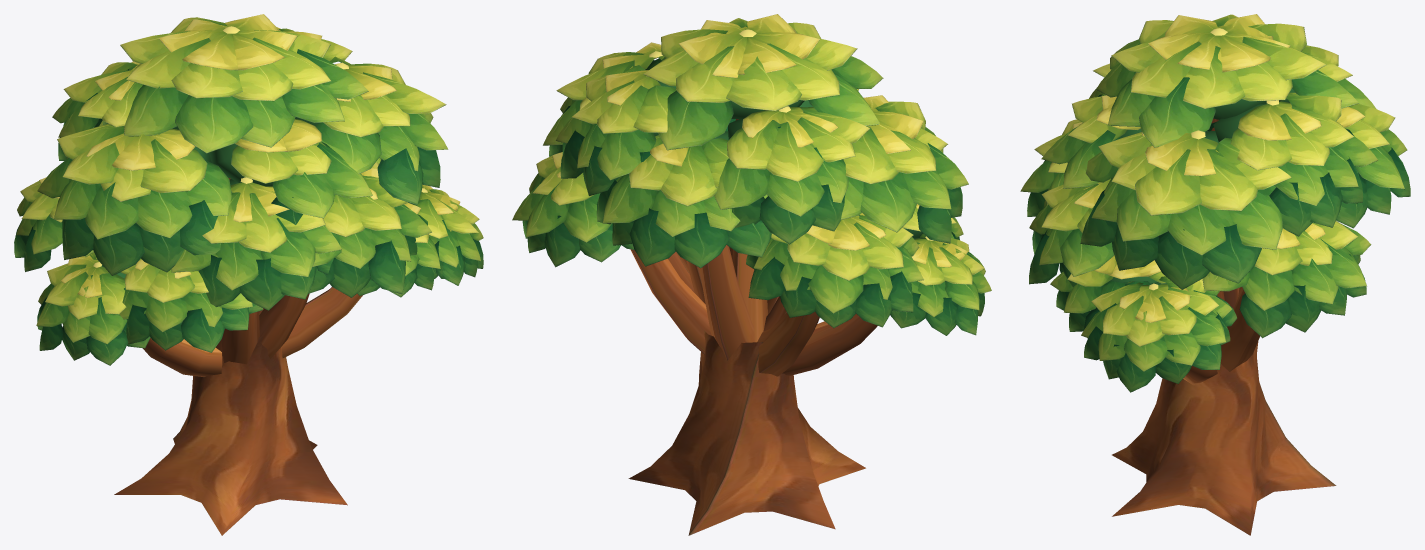
File: tree.glb
3 views of the same model, side by side, from view 1: azimuth 30°, elevation 25°; view 2: azimuth 150°, elevation 25°; view 3: azimuth 270°, elevation 25° (orthographic).
Parts seen in each view (by area): view 1: tree_blockout; view 2: tree_blockout; view 3: tree_blockout.
Part boxes in pixels (box(x1,y1,x2,y2)): tree_blockout: box(14, 14, 483, 535); tree_blockout: box(512, 14, 991, 535); tree_blockout: box(1020, 14, 1410, 535).
Size of the model in its own units: 3.38 by 3.45 by 2.67.
1 material, 1 textured.
